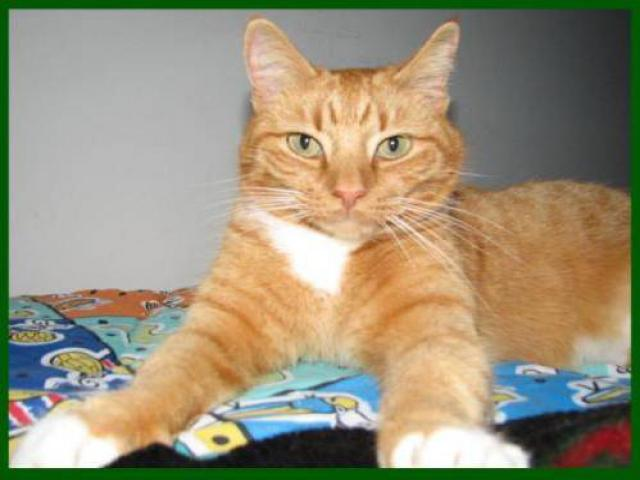cat: (43, 7, 618, 468)
